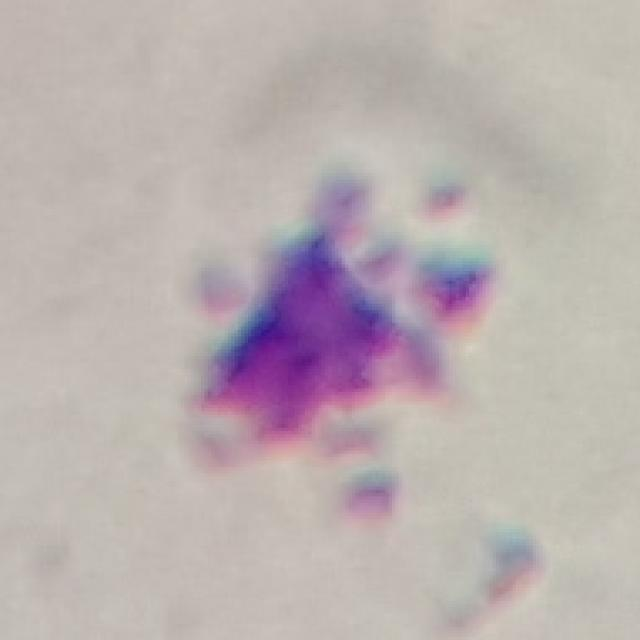non-sperm: (189, 179, 492, 466)
